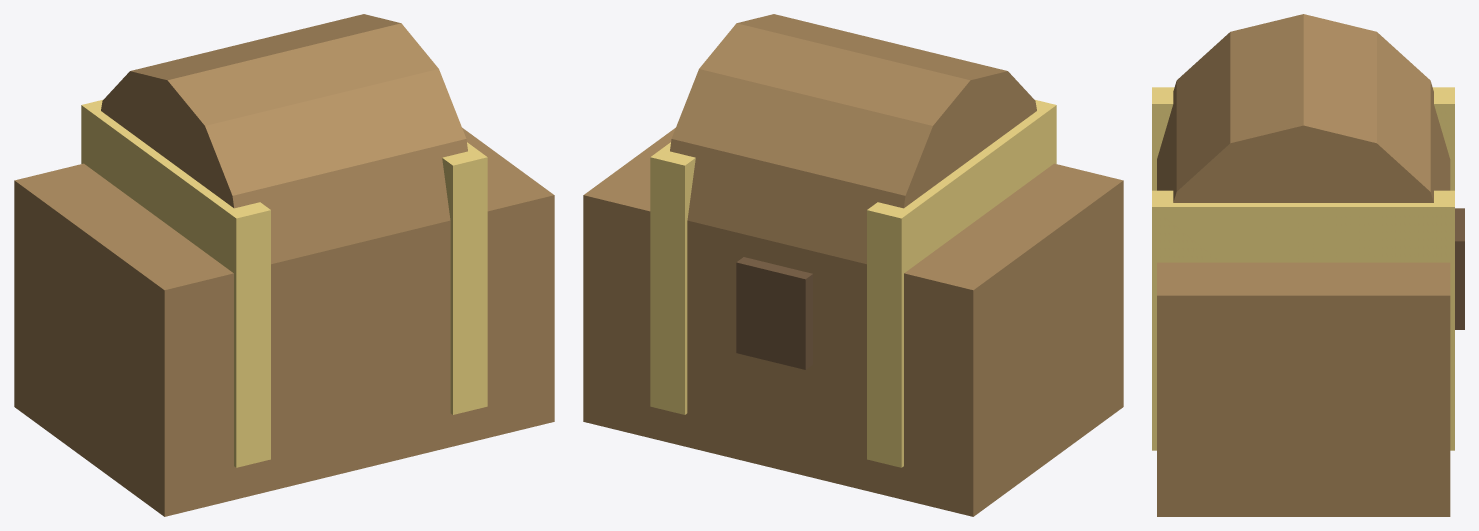
File: treasure_chest.glb
3 renders of one model, left to right at view 1: azimuth 30°, elevation 25°; view 2: azimuth 150°, elevation 25°; view 3: azimuth 270°, elevation 25°, orthographic. The views are drawn at different scales.
Visible parts, largest first — view 1: chest_base, chest_lid, chest_band.001, chest_band; view 2: chest_base, chest_lid, chest_band.001, chest_band, chest_lock; view 3: chest_base, chest_lid, chest_band, chest_band.001, chest_lock.
Part boxes in pixels (<box>): chest_base: <box>14,127,554,516</box>; chest_lid: <box>101,14,467,264</box>; chest_band.001: <box>81,100,270,467</box>; chest_band: <box>442,142,487,414</box>; chest_base: <box>583,127,1123,516</box>; chest_lid: <box>670,14,1036,264</box>; chest_band.001: <box>867,100,1056,467</box>; chest_band: <box>650,142,695,414</box>; chest_lock: <box>736,257,812,369</box>; chest_base: <box>1157,262,1450,516</box>; chest_lid: <box>1157,14,1450,202</box>; chest_band: <box>1152,190,1454,450</box>; chest_band.001: <box>1152,87,1454,190</box>; chest_lock: <box>1455,208,1464,329</box>.
Bounding box in the file's own units: 0.9 × 0.8 × 0.64.
